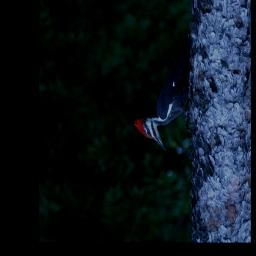Woodpecker: (134, 29, 194, 155)
